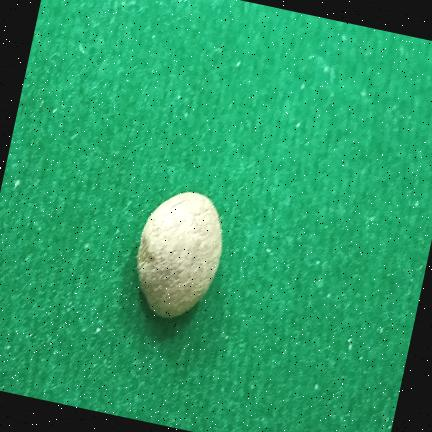cut: (137, 192, 222, 318)
